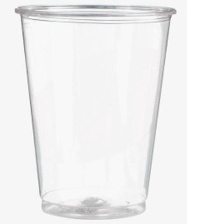glass: (10, 0, 179, 224)
